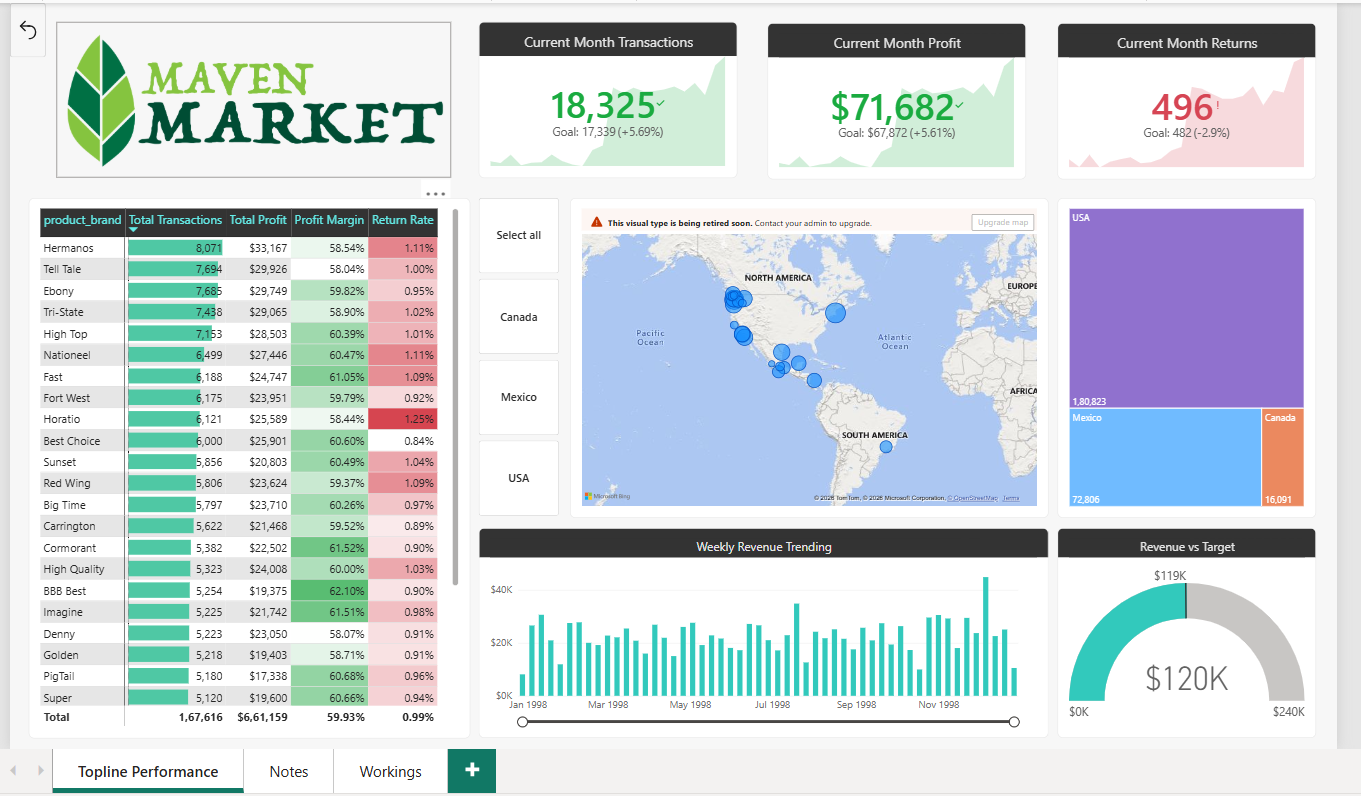

Layout of this report page (visuals, bound fields, positions):
{"tool":"powerbi","page":{"name":"Topline Performance","canvas":[1920,1080],"ordinal":0},"visuals":[{"type":"image","box":[67.4,27,570.9,227],"z":0},{"type":"pivotTable","fields":{"Rows":["Products.product_brand"],"Values":["Measures Table.Total Transactions","Measures Table.Total Profit","Measures Table.Profit Margin","Measures Table.Return Rate"]},"box":[27.8,281.7,639.4,782.1],"z":1},{"type":"kpi","title":"Current Month Profit","fields":{"Goal":["Measures Table.Last Month Profit"],"Indicator":["Measures Table.Total Profit"],"TrendLine":["Calendar.Start of Month"]},"box":[1097.1,29.7,374.4,226.1],"z":2},{"type":"kpi","title":"Current Month Transactions","fields":{"Goal":["Measures Table.Last Month Transactions"],"Indicator":["Measures Table.Total Transactions"],"TrendLine":["Calendar.Start of Month"]},"box":[678.3,27.8,374.4,226.1],"z":3},{"type":"kpi","title":"Current Month Returns","fields":{"Goal":["Measures Table.Last Month Returns"],"Indicator":["Measures Table.Total Returns"],"TrendLine":["Calendar.Start of Month"]},"box":[1516,29.7,374.4,226.1],"z":4},{"type":"map","fields":{"Category":["Stores.store_city"],"Size":["Measures Table.Total Transactions"]},"box":[809.9,281.7,693.1,463.3],"z":5},{"type":"advancedSlicerVisual","fields":{"Values":["Stores.store_country"]},"box":[678.3,281.7,116.8,463.3],"z":6},{"type":"treemap","fields":{"Group":["Stores.store_country","Stores.store_state","Stores.store_city"],"Values":["Measures Table.Total Transactions"]},"box":[1516,281.7,374.4,463.3],"z":7},{"type":"columnChart","title":"Weekly Revenue Trending","fields":{"Category":["Calendar.Start of Week"],"Y":["Measures Table.Total Revenue"]},"box":[678.3,759.8,824.7,303.9],"z":8},{"type":"gauge","title":"Revenue vs Target","fields":{"TargetValue":["Measures Table.Revenue Target"],"Y":["Measures Table.Total Revenue"]},"box":[1515.6,760.6,374.7,304.2],"z":9},{"type":"actionButton","box":[0,0,51.7,78.7],"z":10}]}

Visuals, with their boxes on the page's 1920x1080 design canvas (x1, y1, x2, y2). These are canvas units, not pixel positions in the 1361x796 screenshot, which may show the page scaled, cropped or inside an application window:
image: l=67, t=27, r=638, b=254
pivotTable - Products.product_brand x Measures Table.Total Transactions: l=28, t=282, r=667, b=1064
"Current Month Profit" kpi: l=1097, t=30, r=1472, b=256
"Current Month Transactions" kpi: l=678, t=28, r=1053, b=254
"Current Month Returns" kpi: l=1516, t=30, r=1890, b=256
map - Stores.store_city x Measures Table.Total Transactions: l=810, t=282, r=1503, b=745
advancedSlicerVisual - Stores.store_country: l=678, t=282, r=795, b=745
treemap - Stores.store_country x Stores.store_state: l=1516, t=282, r=1890, b=745
"Weekly Revenue Trending" columnChart: l=678, t=760, r=1503, b=1064
"Revenue vs Target" gauge: l=1516, t=761, r=1890, b=1065
actionButton: l=0, t=0, r=52, b=79
